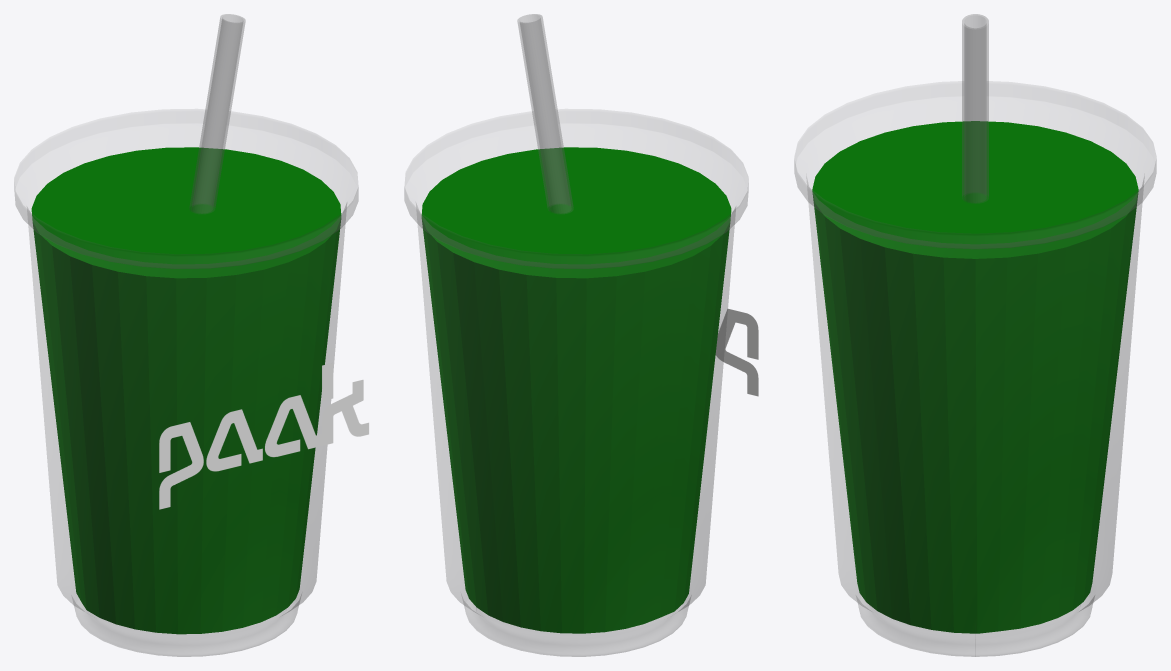
Rendered from paak.gltf.
The picture shows the model from 3 angles, left to right: view 1: azimuth 30°, elevation 25°; view 2: azimuth 150°, elevation 25°; view 3: azimuth 270°, elevation 25°; orthographic projection. The views are drawn at different scales.
Visible parts, largest first — view 1: White Paper cup, Cylinder, paakLogoWhite, Cylinder.001; view 2: White Paper cup, Cylinder, Cylinder.001, paakLogoWhite; view 3: White Paper cup, Cylinder, Cylinder.001.
Boxes of the visible parts, box(x1,y1,x2,y2) form: White Paper cup: box(14, 109, 358, 656); Cylinder: box(31, 147, 341, 634); paakLogoWhite: box(159, 363, 368, 509); Cylinder.001: box(189, 14, 245, 213); White Paper cup: box(404, 109, 748, 656); Cylinder: box(421, 147, 731, 633); Cylinder.001: box(517, 14, 573, 213); paakLogoWhite: box(715, 308, 758, 396); White Paper cup: box(794, 81, 1156, 656); Cylinder: box(812, 121, 1138, 633); Cylinder.001: box(962, 14, 988, 203).
Size of the model in its own units: 1.34 by 2.49 by 1.34.
4 materials, 1 textured.
